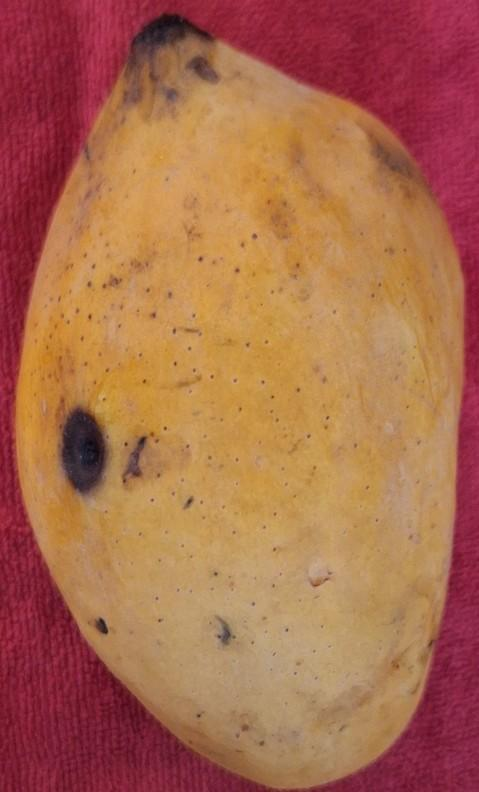mango: (13, 12, 465, 788)
